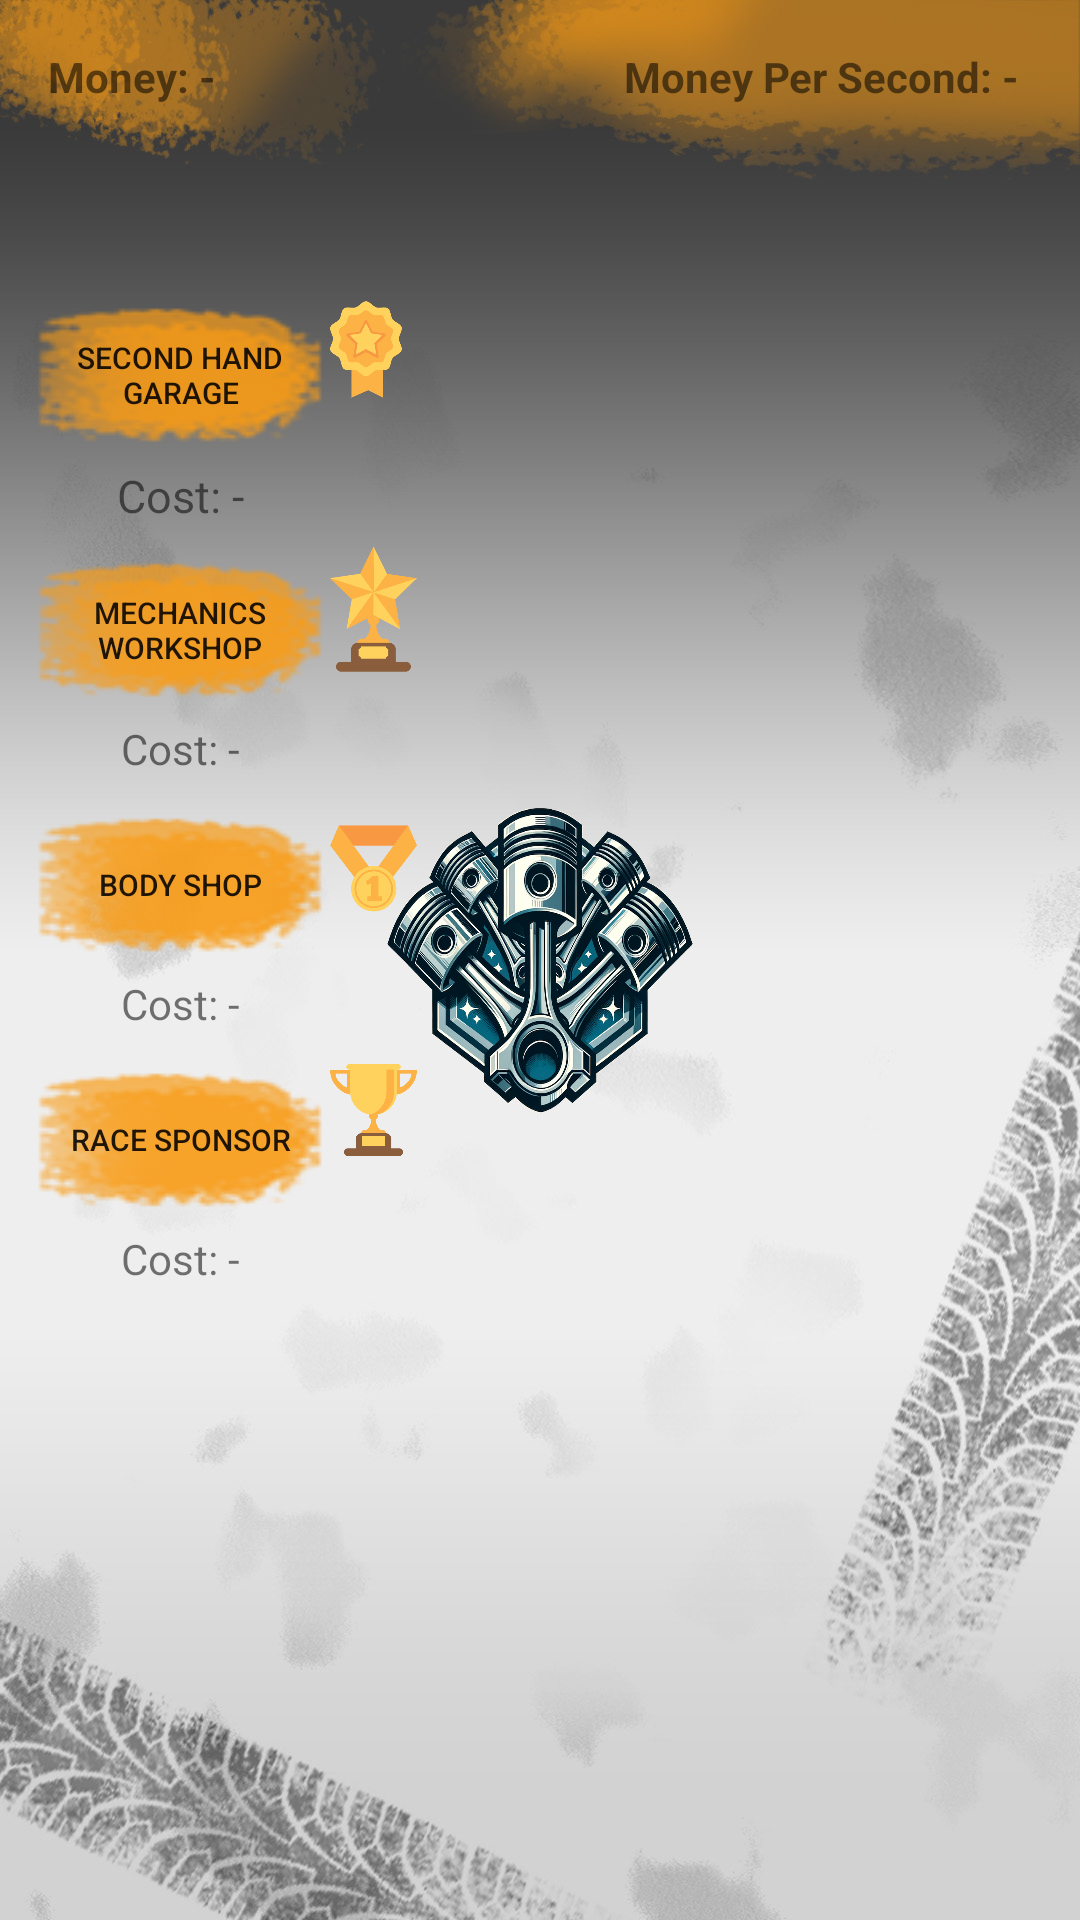

Point at icon controls on the screen. Image size 1080w x 1920h, points as [x,y].
award: [373,868]
star award: [366,357]
star trophy: [373,609]
trophy: [373,1110]
